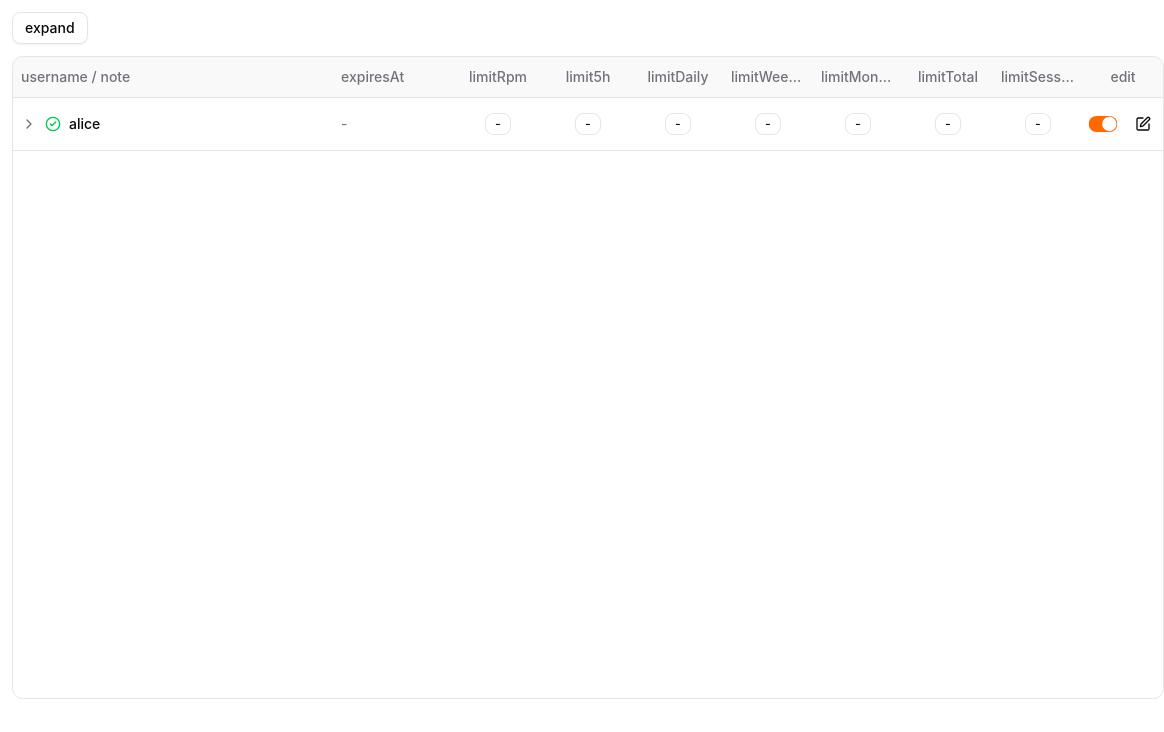
UserManagementTable 行展开态跨重挂载保留 › 展开后重挂载仍展开，收起后重挂载仍收起
Click the button "alice - - - - - - - -". click: (588, 124)
box: [13,98,1163,150]
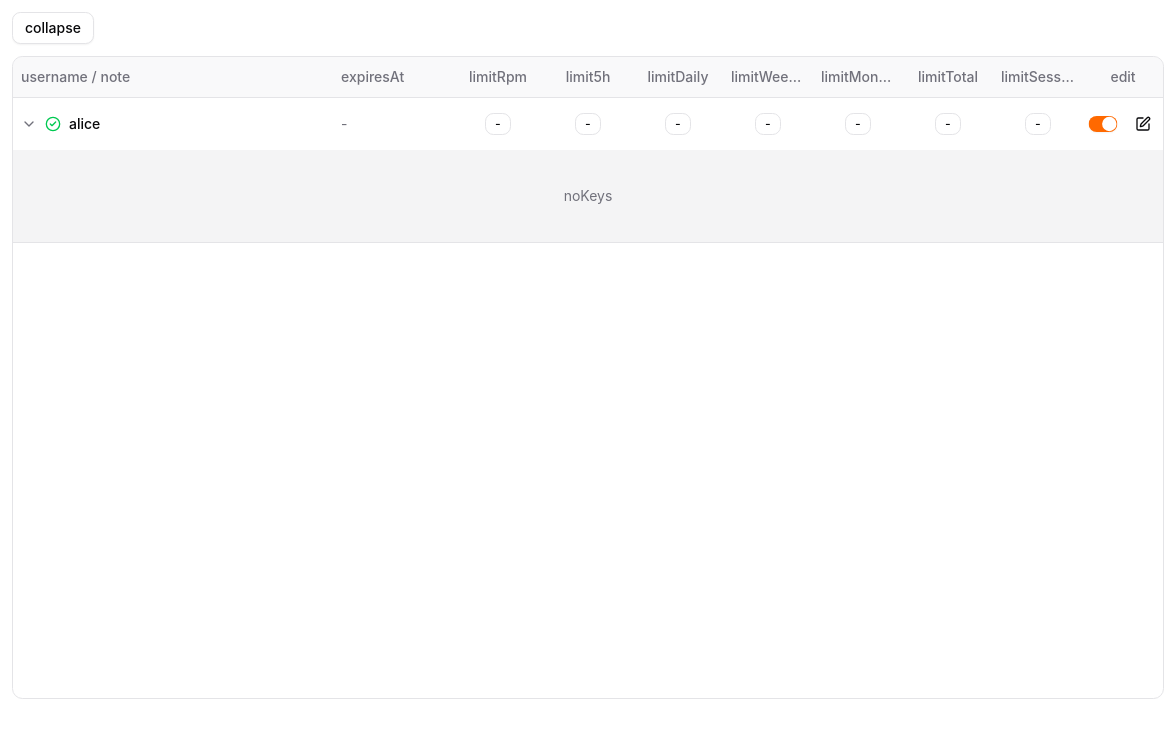
Expected: the button "alice - - - - - - - -" is expanded
Click the button "alice - - - - - - - -". click: (588, 124)
box: [13,98,1163,150]
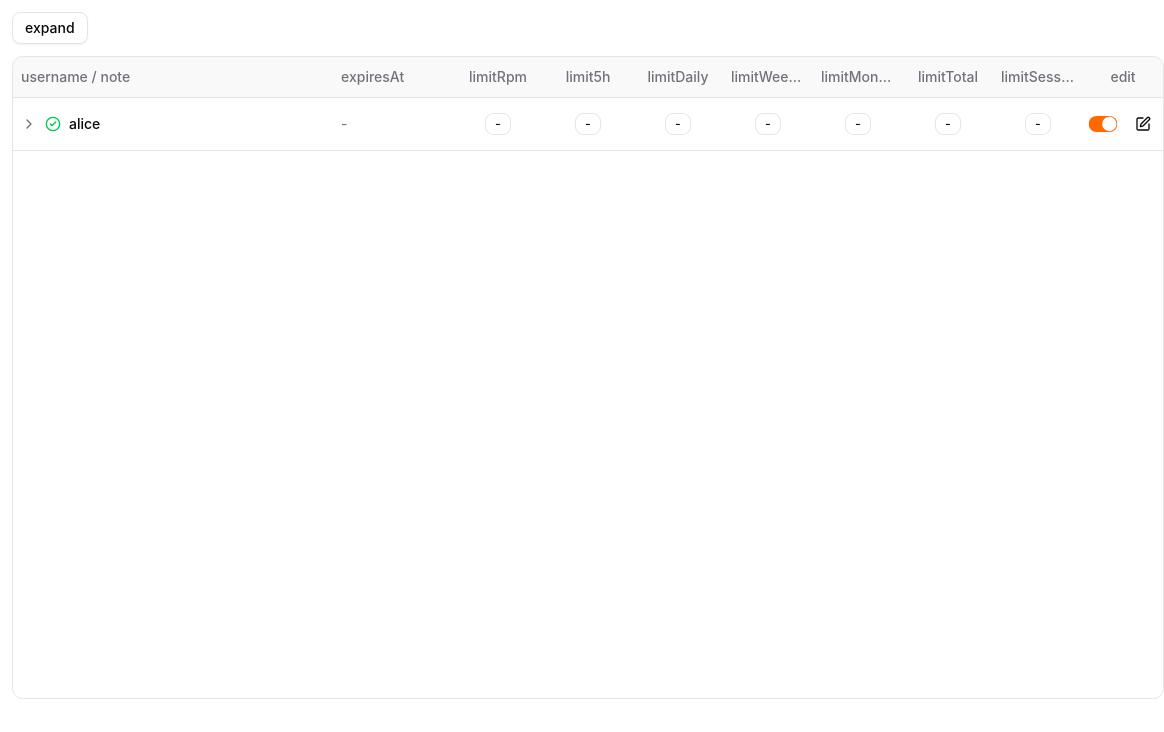
Expected: the button "alice - - - - - - - -" is collapsed, [13,98,1163,150]
